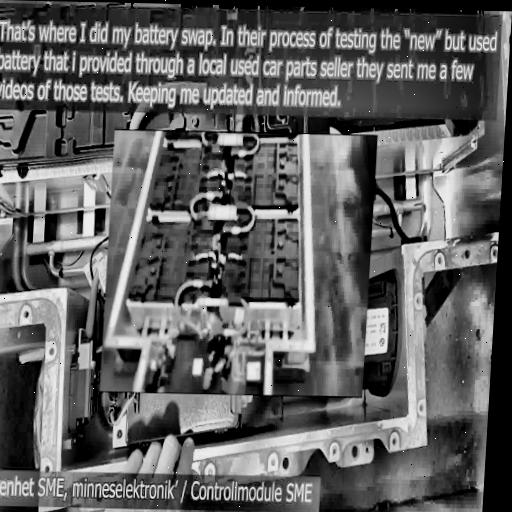high_volt_cable: (169, 125, 265, 369)
